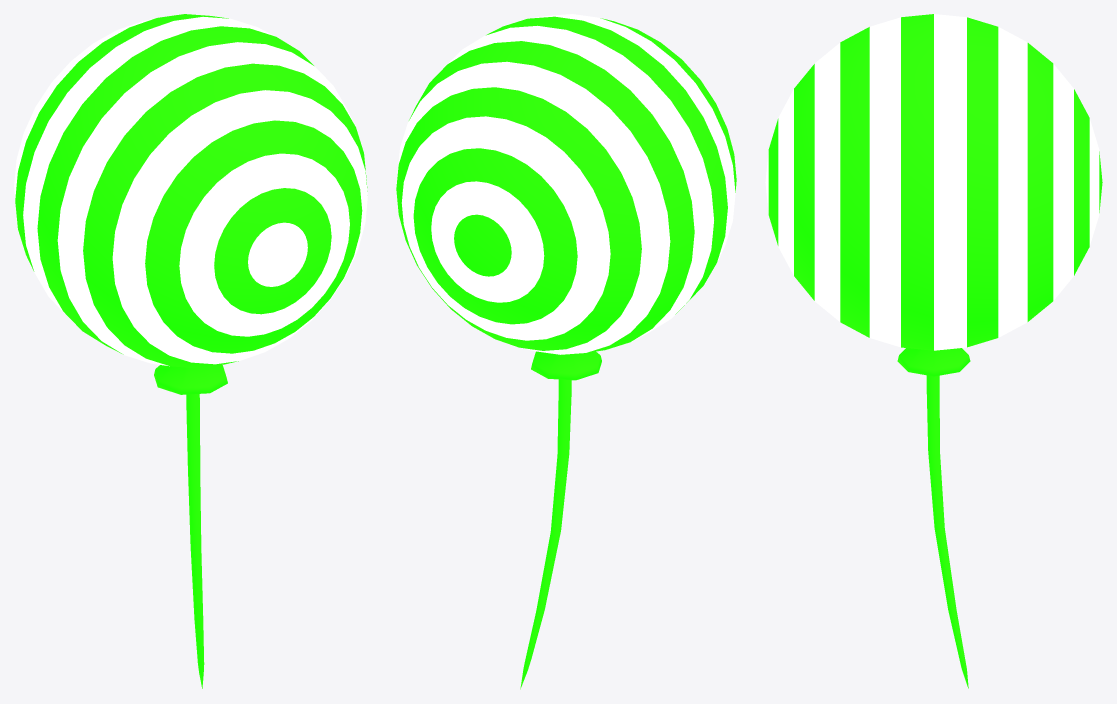
Rendered from greenBalloon.glb.
3 views of the same model, side by side, from view 1: azimuth 30°, elevation 25°; view 2: azimuth 150°, elevation 25°; view 3: azimuth 270°, elevation 25° (orthographic). The views are drawn at different scales.
Visible parts, largest first — view 1: greenBalloon, Balloon-tail.004; view 2: greenBalloon, Balloon-tail.004; view 3: greenBalloon, Balloon-tail.004.
Part boxes in pixels (left/top/right/bottom): greenBalloon: left=14, top=14, right=367, bottom=394; Balloon-tail.004: left=186, top=394, right=204, bottom=688; greenBalloon: left=396, top=14, right=736, bottom=380; Balloon-tail.004: left=520, top=379, right=571, bottom=689; greenBalloon: left=765, top=14, right=1102, bottom=376; Balloon-tail.004: left=926, top=375, right=968, bottom=688.
Size of what is drawn, in the model's own units: 2 by 4.23 by 2.
